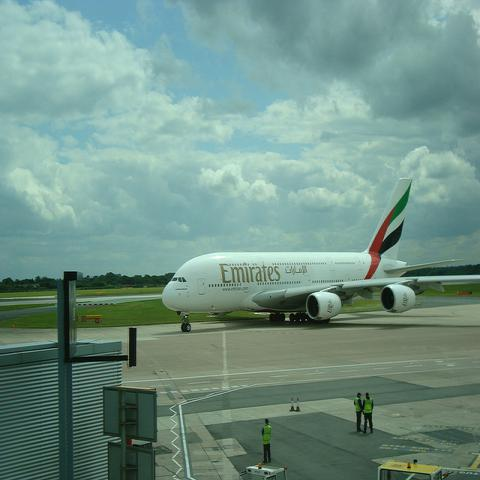truck: (378, 460, 443, 479), (238, 462, 288, 480)
